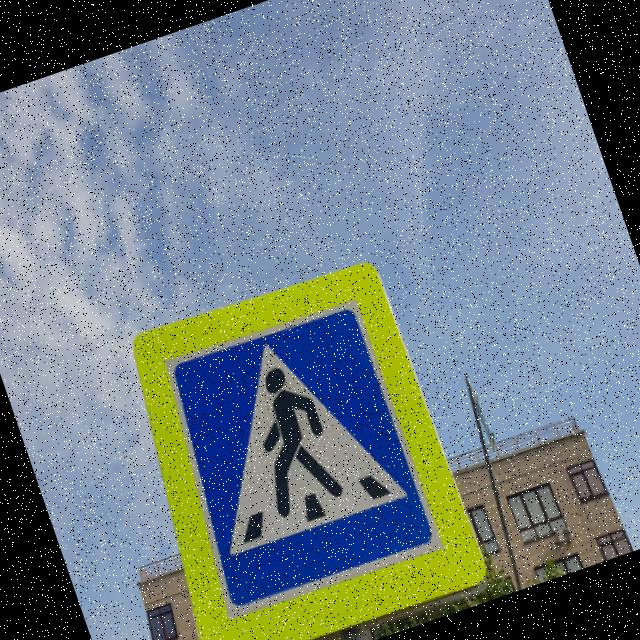crosswalk: (148, 285, 448, 616)
